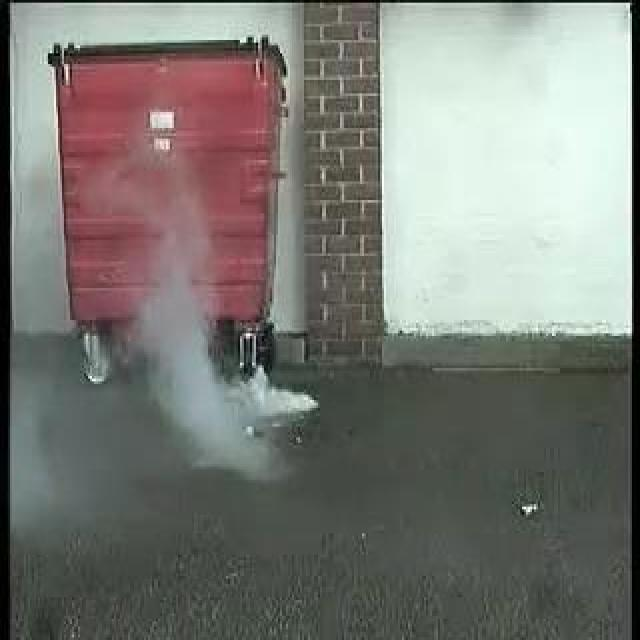Smoke: (112, 277, 322, 472)
